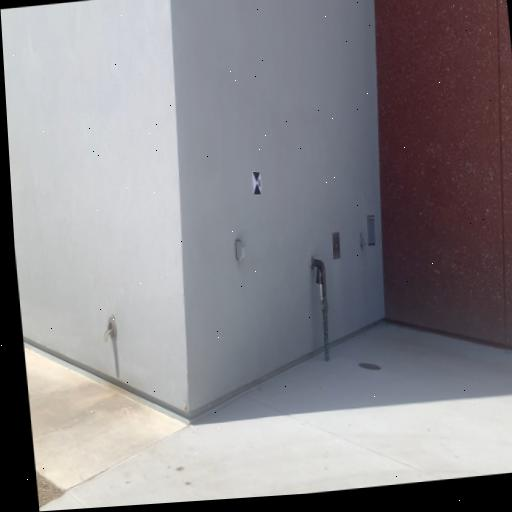target8: (251, 169, 263, 198)
